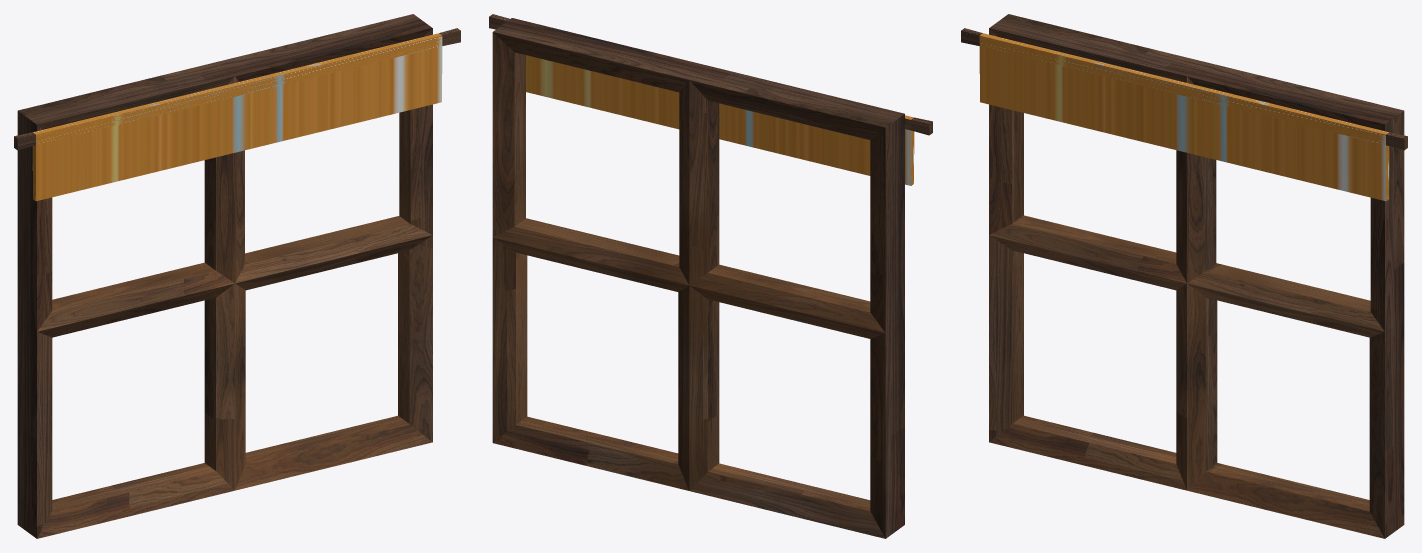
Rendered from Fonster.glb.
The picture shows the model from 3 angles, left to right: view 1: azimuth 30°, elevation 25°; view 2: azimuth 150°, elevation 25°; view 3: azimuth 330°, elevation 25°; orthographic projection.
Visible parts, largest first — view 1: Fönster; view 2: Fönster; view 3: Fönster.
Part boxes in pixels (bbox=[...]): Fönster: bbox=[14, 14, 460, 538]; Fönster: bbox=[489, 14, 932, 538]; Fönster: bbox=[961, 14, 1407, 538].
Bounding box in the file's own units: 1.57 × 1.4 × 0.1454.
Materials: 3 (3 with a texture image).
